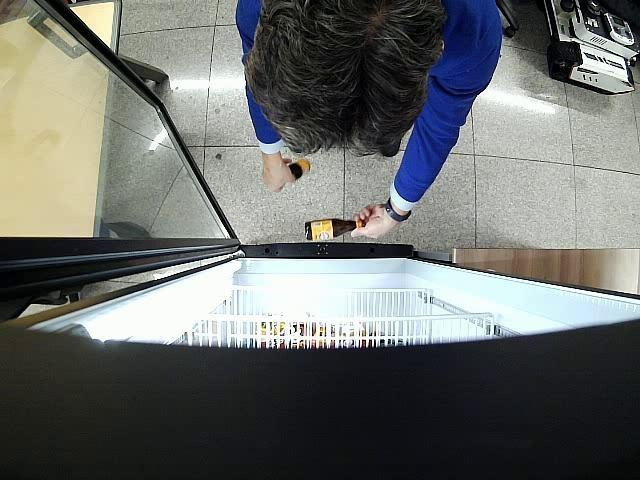17_vita500: (306, 219, 363, 241), (289, 160, 311, 180)
